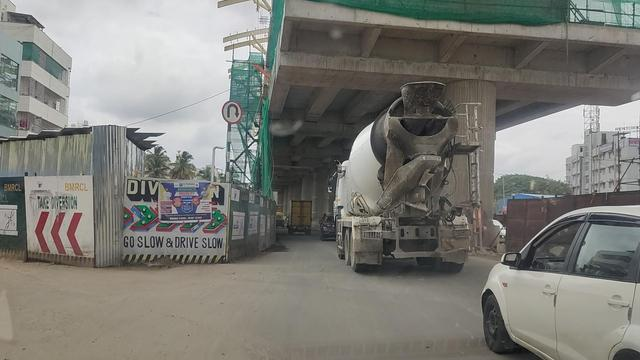HMV: (340, 84, 469, 267), (287, 197, 310, 233)
UnsurfacedRoad: (221, 261, 357, 277)
